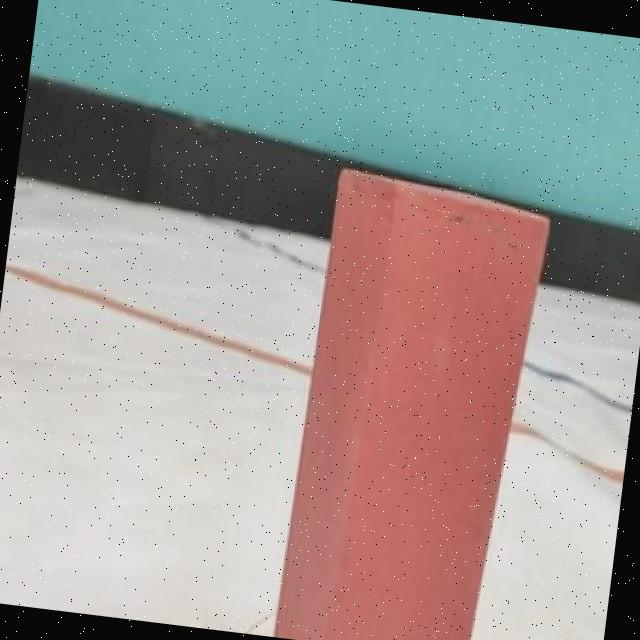redbox: (270, 158, 555, 640)
